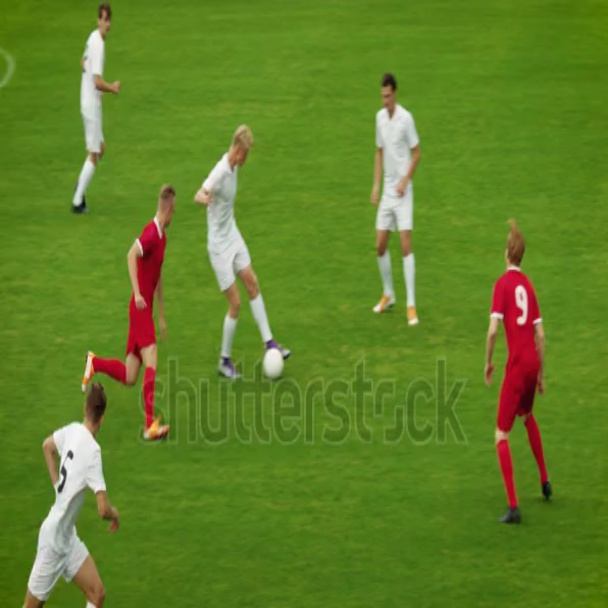ball: (259, 341, 289, 387)
